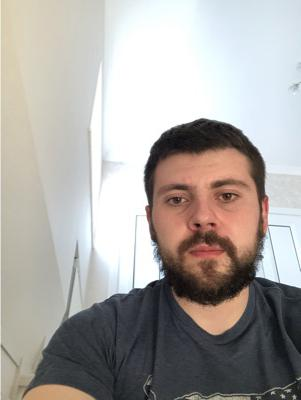without_mask: (152, 169, 258, 308)
